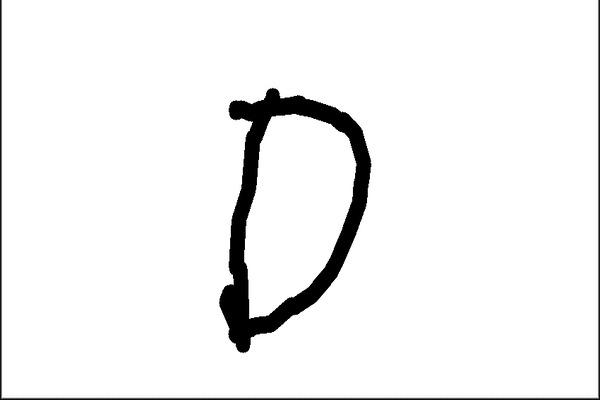D: (214, 84, 378, 355)
